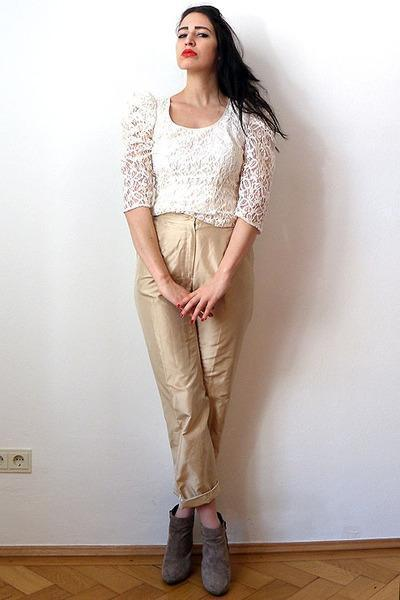pants: (134, 211, 260, 515)
shirt: (121, 92, 272, 227)
shoe: (167, 504, 227, 587)
